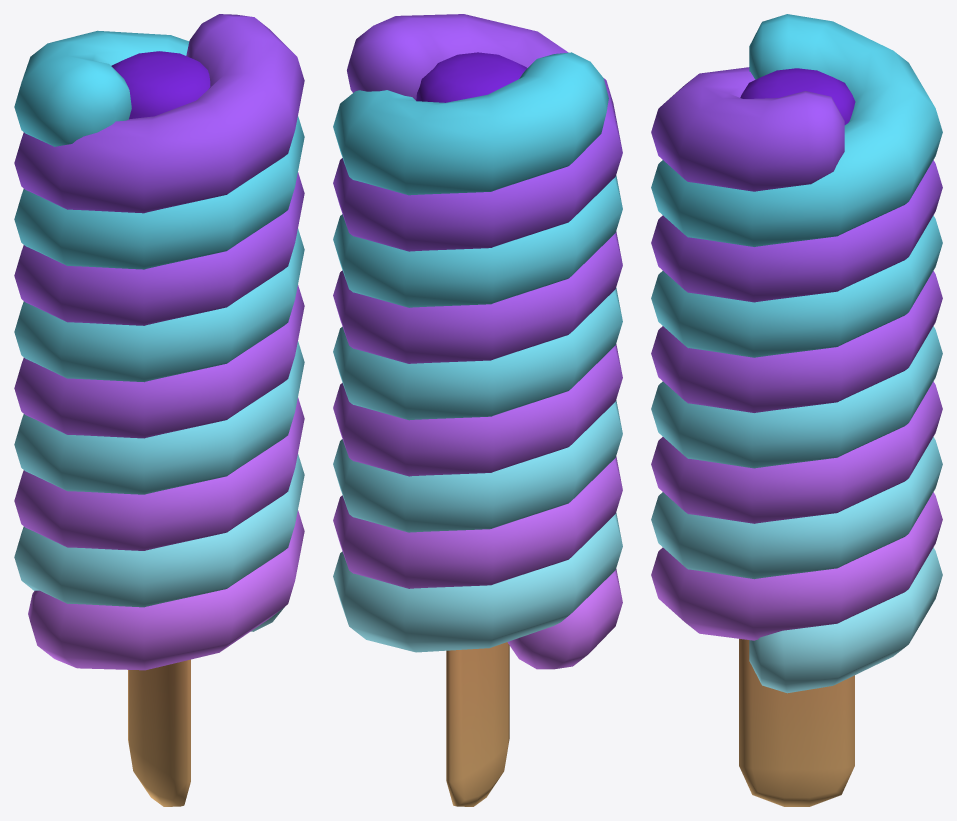
The model's file is Ice_Cream_V1_01.fbx.
The picture shows the model from 3 angles, left to right: view 1: azimuth 30°, elevation 25°; view 2: azimuth 150°, elevation 25°; view 3: azimuth 270°, elevation 25°; orthographic projection.
Visible parts, largest first — view 1: Ice_Cream_V1_01; view 2: Ice_Cream_V1_01; view 3: Ice_Cream_V1_01.
Part boxes in pixels (x1,y1,x2,y2): Ice_Cream_V1_01: [14, 14, 304, 806]; Ice_Cream_V1_01: [333, 14, 622, 806]; Ice_Cream_V1_01: [651, 14, 942, 806].
Bounding box in the file's own units: 20.02 × 59.42 × 20.97.
